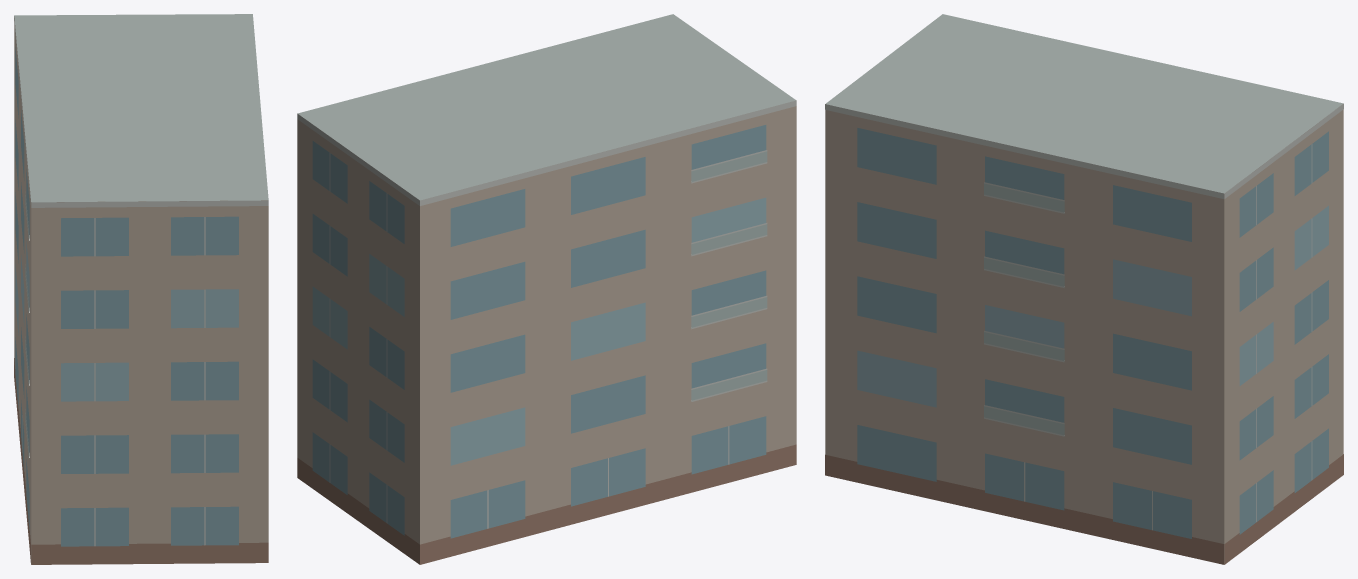
Rendered from survey-upis-32975347.glb.
The picture shows the model from 3 angles, left to right: view 1: azimuth 30°, elevation 25°; view 2: azimuth 150°, elevation 25°; view 3: azimuth 270°, elevation 25°; orthographic projection. The views are drawn at different scales.
Parts seen in each view (by area): view 1: survey-upis-32975347.tmp; view 2: survey-upis-32975347.tmp; view 3: survey-upis-32975347.tmp.
Part boxes in pixels (box(x1,y1,x2,y2)): survey-upis-32975347.tmp: box(14, 14, 268, 564); survey-upis-32975347.tmp: box(297, 14, 796, 564); survey-upis-32975347.tmp: box(825, 14, 1343, 564).
Bounding box in the file's own units: 16.39 × 15.8 × 20.01.
